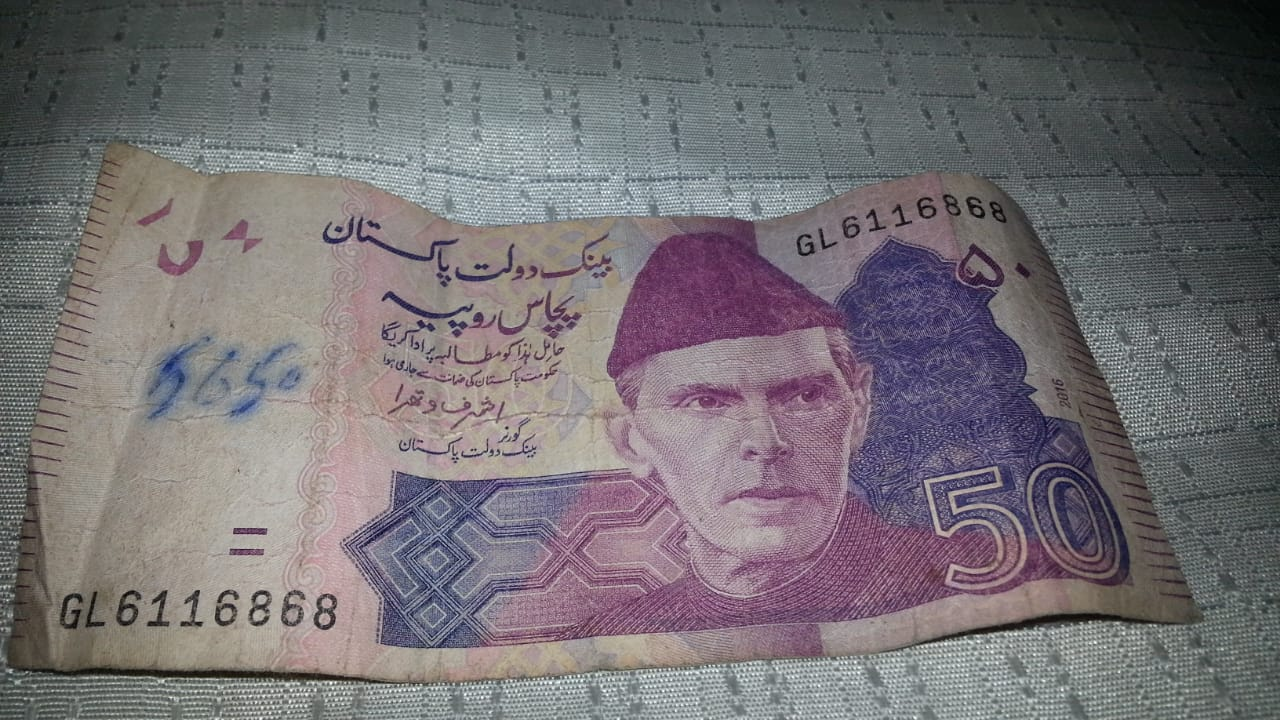50 rupee: (17, 130, 1220, 702)
